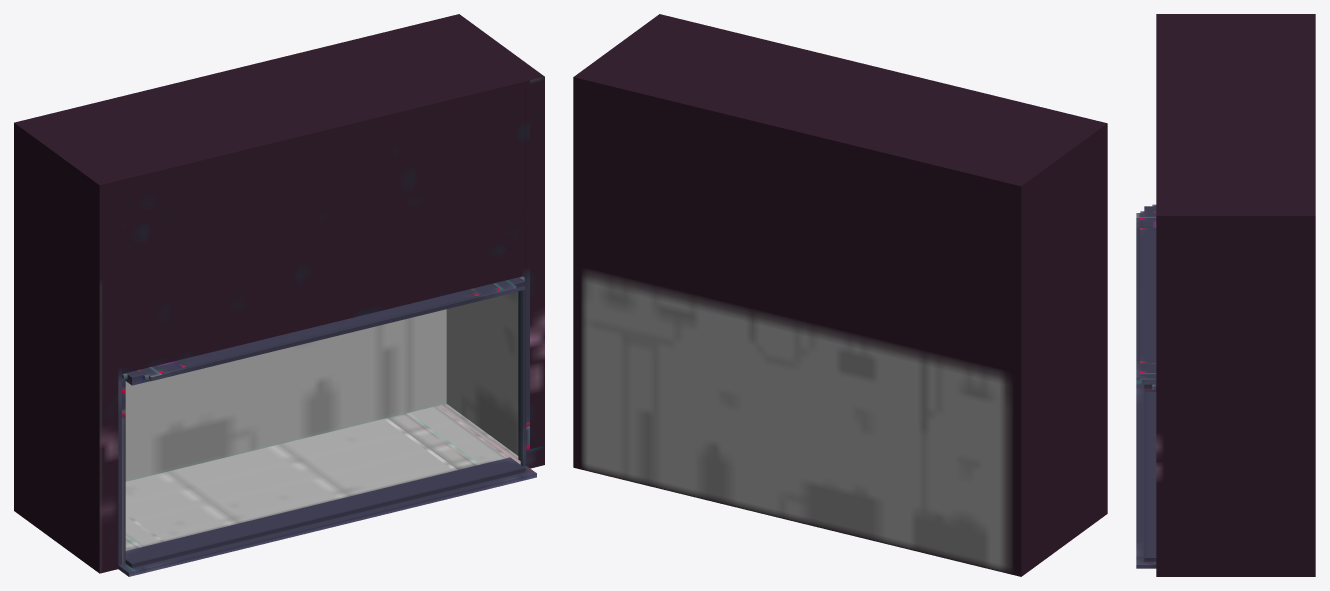
The model's file is BuildingModule_Base_00.fbx.
3 renders of one model, left to right at view 1: azimuth 30°, elevation 25°; view 2: azimuth 150°, elevation 25°; view 3: azimuth 270°, elevation 25°, orthographic. The views are drawn at different scales.
Visible parts, largest first — view 1: BuildingModule_Base_00; view 2: BuildingModule_Base_00; view 3: BuildingModule_Base_00.
Boxes of the visible parts, bbox=[...] form: BuildingModule_Base_00: bbox=[14, 14, 544, 576]; BuildingModule_Base_00: bbox=[573, 14, 1107, 576]; BuildingModule_Base_00: bbox=[1136, 14, 1315, 576].
Bounding box in the file's own units: 600 × 500 × 225.
